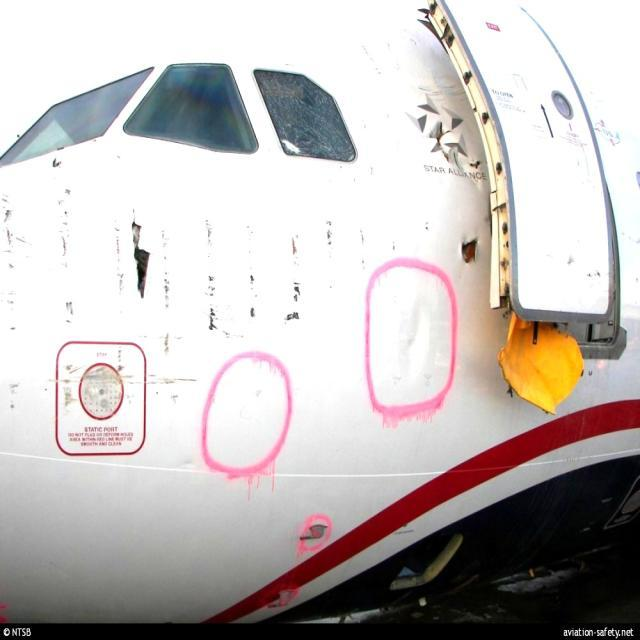crack: (126, 207, 154, 304), (457, 232, 483, 271)
dent: (398, 294, 433, 377)
